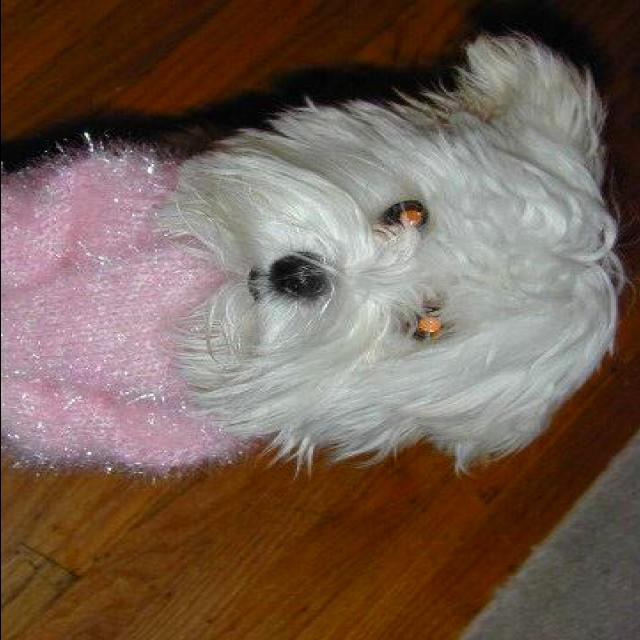maltese_dog: (2, 33, 630, 479)
